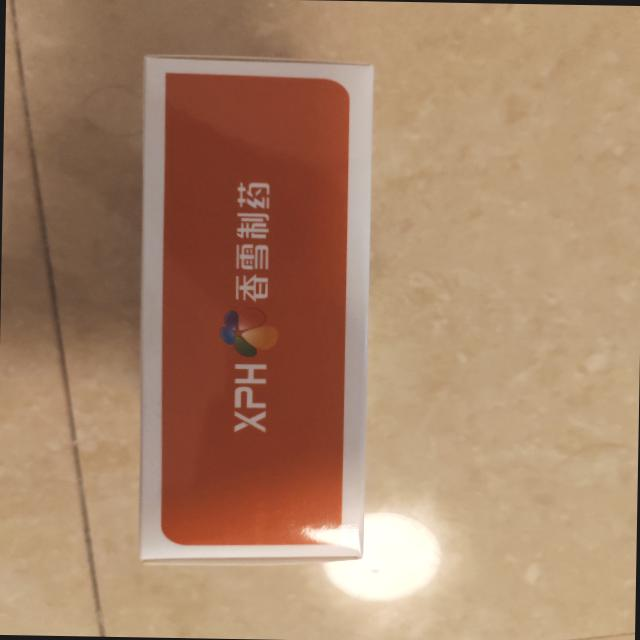box: (121, 44, 382, 570)
